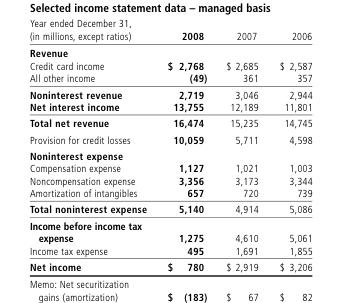table: (28, 29, 311, 272)
table column: (28, 29, 156, 272), (156, 29, 215, 272), (215, 29, 268, 272), (268, 29, 311, 272)
table column header: (28, 29, 311, 44)
table projected row header: (28, 44, 311, 59), (28, 147, 311, 161)
table row: (28, 217, 311, 243), (28, 130, 311, 147), (28, 200, 311, 217), (28, 114, 311, 130), (28, 29, 311, 44), (28, 44, 311, 59), (28, 85, 311, 100), (28, 243, 311, 258), (28, 71, 311, 85), (28, 100, 311, 114), (28, 147, 311, 161), (28, 186, 311, 200), (28, 258, 311, 272), (28, 173, 311, 186), (28, 59, 311, 71), (28, 161, 311, 173)
